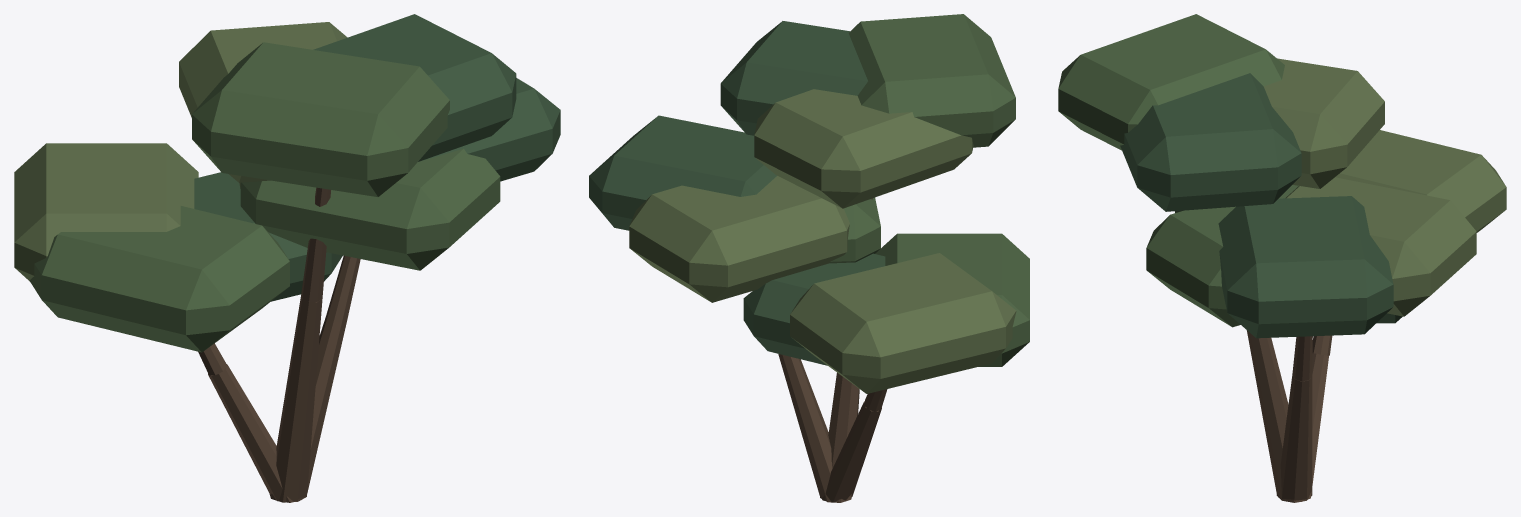
File: elderberry_young_summer.glb
3 renders of one model, left to right at view 1: azimuth 30°, elevation 25°; view 2: azimuth 150°, elevation 25°; view 3: azimuth 270°, elevation 25°, orthographic. The views are drawn at different scales.
Parts seen in each view (by area): view 1: elderberry_young_summer; view 2: elderberry_young_summer; view 3: elderberry_young_summer.
Boxes of the visible parts, left/top/right/bottom form: elderberry_young_summer: left=14, top=14, right=560, bottom=502; elderberry_young_summer: left=589, top=14, right=1029, bottom=502; elderberry_young_summer: left=1058, top=14, right=1506, bottom=502.
Bounding box in the file's own units: 0.9701 × 0.9017 × 0.8551.
